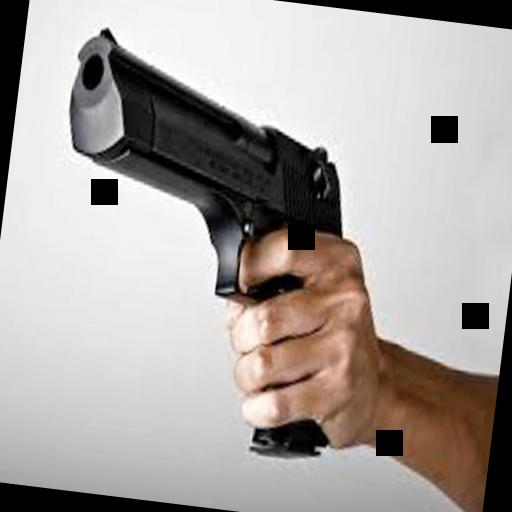Handgun: (28, 20, 386, 460)
